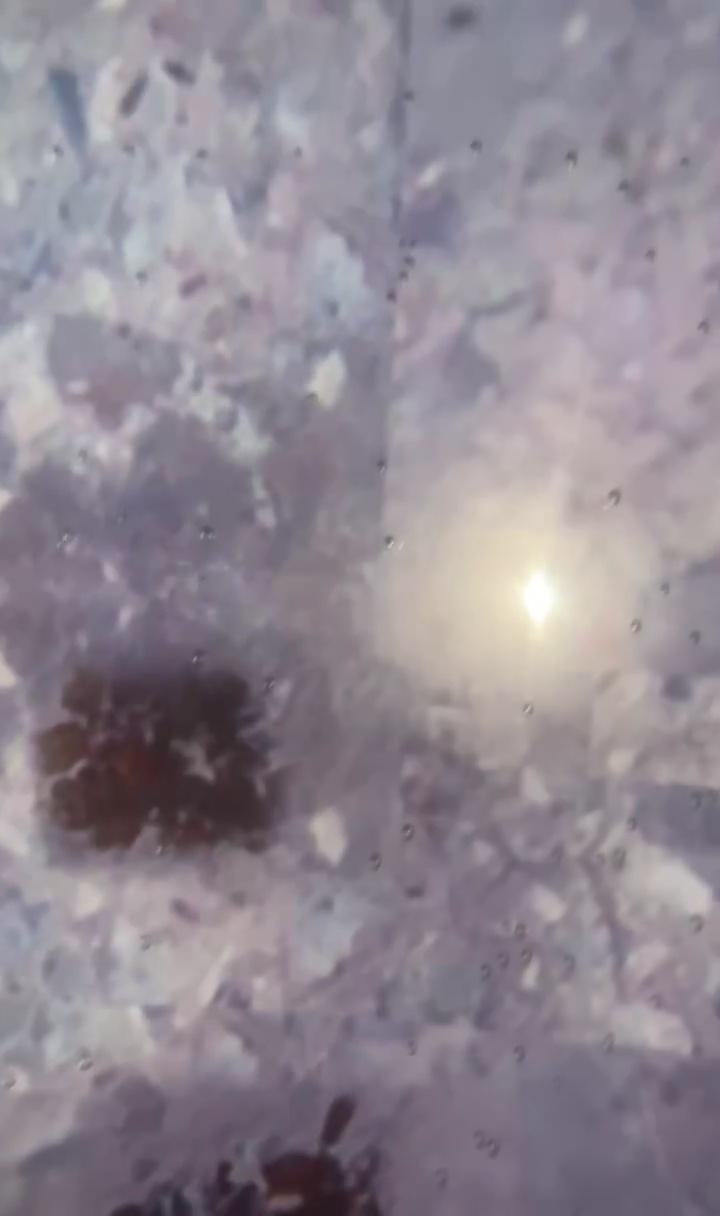Corrosion: (28, 647, 299, 855), (105, 1089, 382, 1216)
